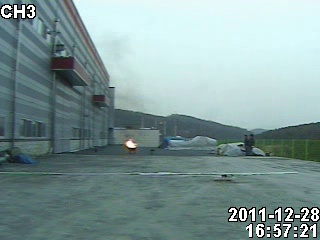fire: (122, 138, 139, 149)
